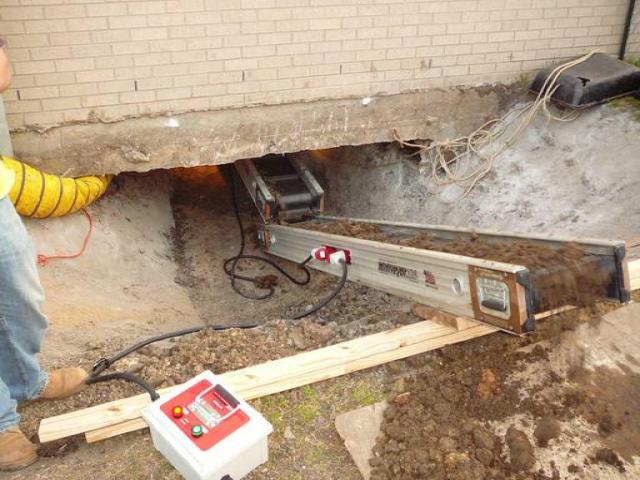conveyor: (212, 152, 632, 350)
